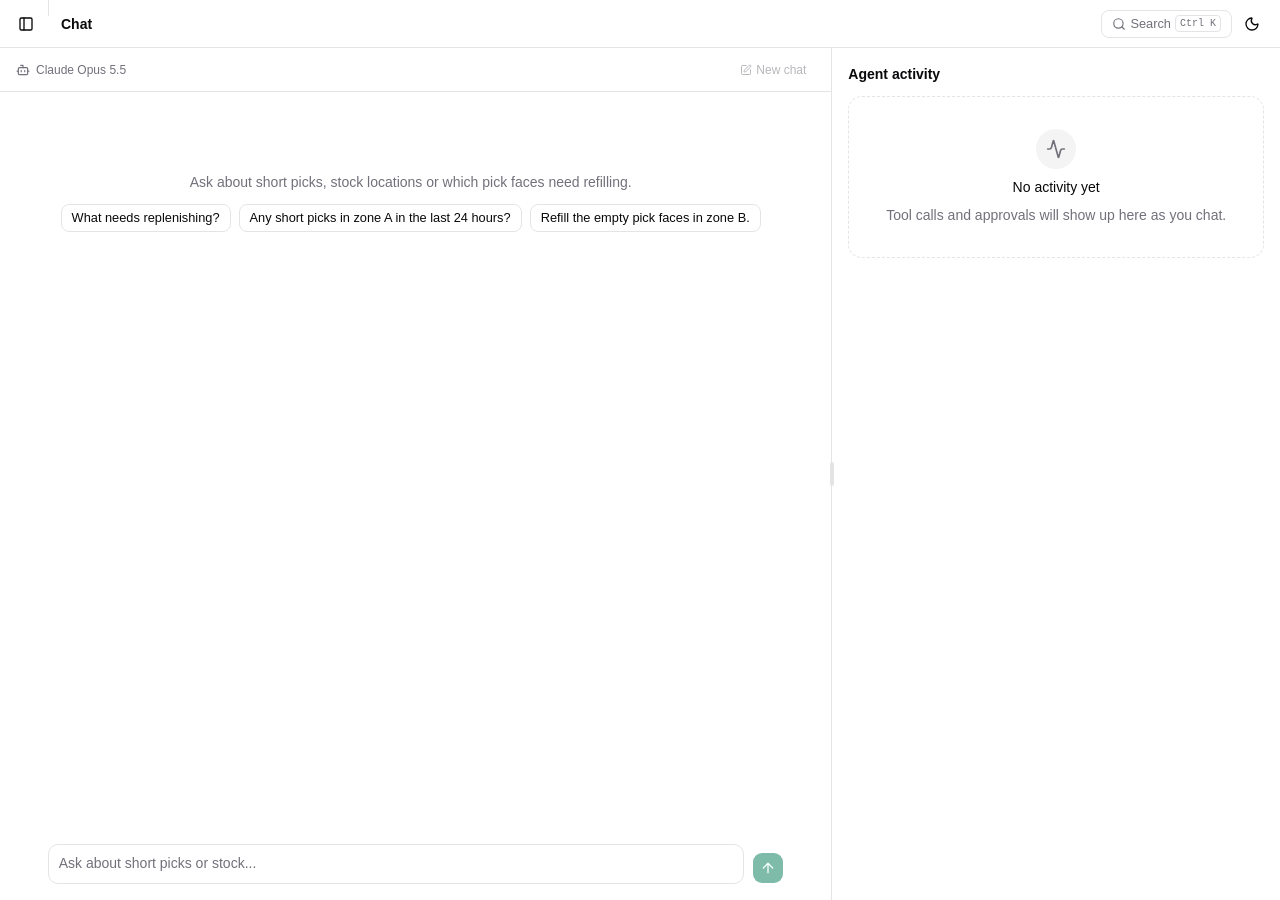
Test: App notifications › stays quiet about an approval request while the supervisor is in the workspace
In the text box named "Message": (396, 864) [48,844,744,884], type "Refill it"
Then press Enter
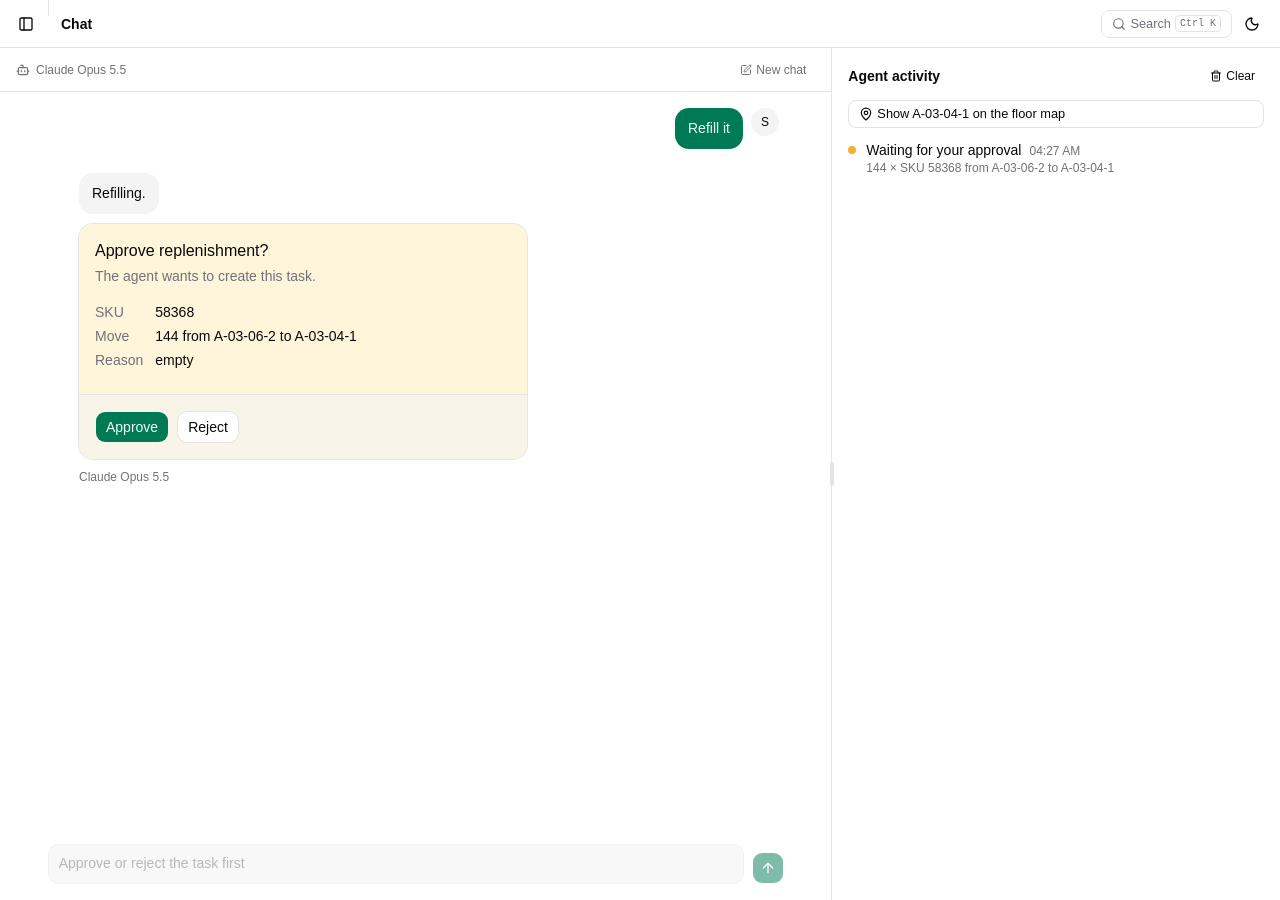
expect the button "Approve" is shown: met, box [95,410,169,442]
